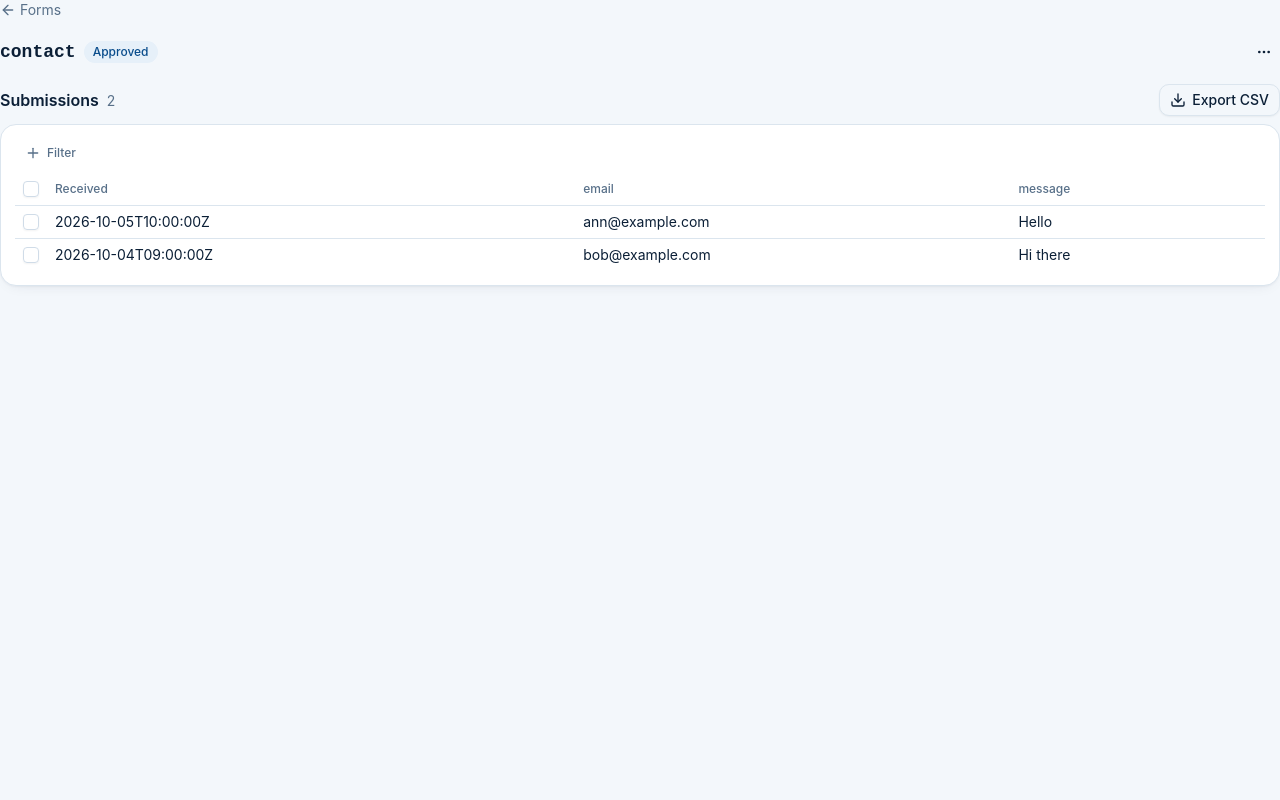
Test: FormPage › opens a row's submission in the drawer by its id
Click the button named "bob@example.com".
click(134, 254)  # box [55,244,213,264]
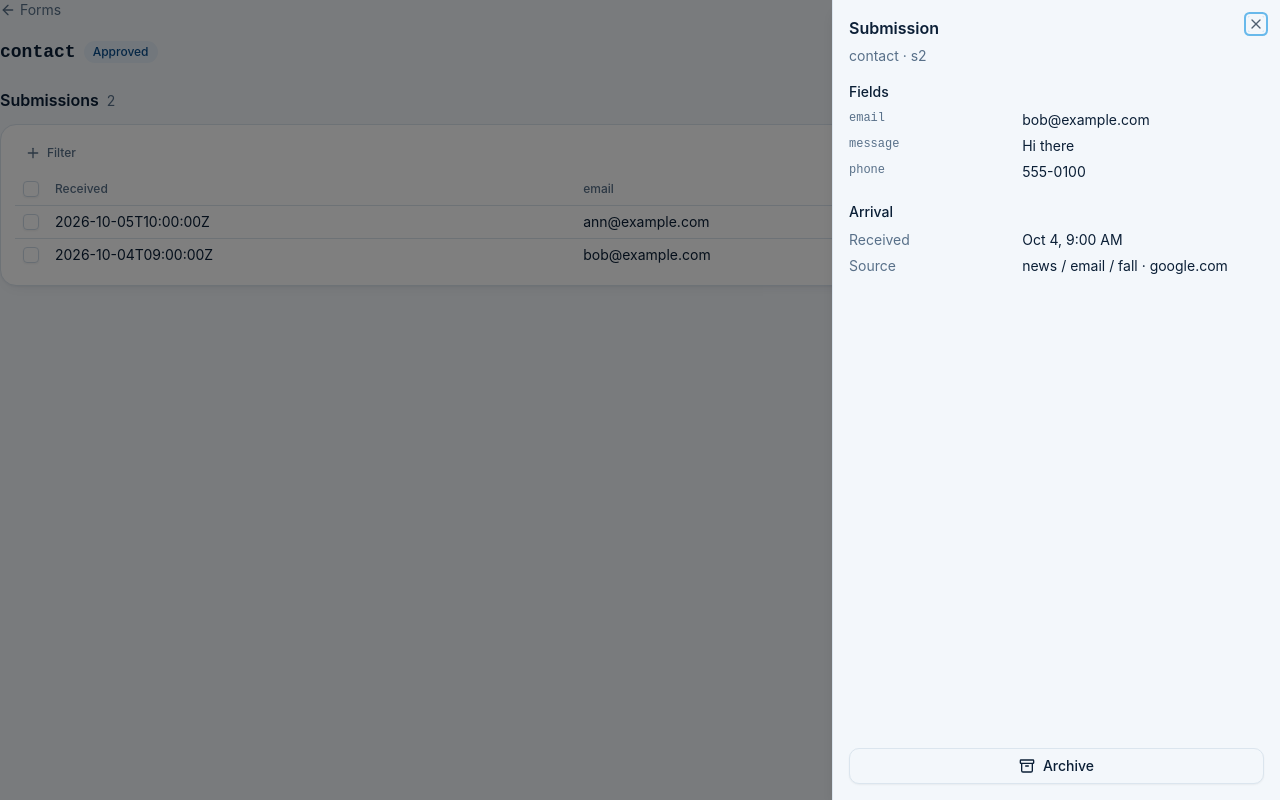
expect the text "555-0100" is shown: met, box [1022,163,1086,180]
